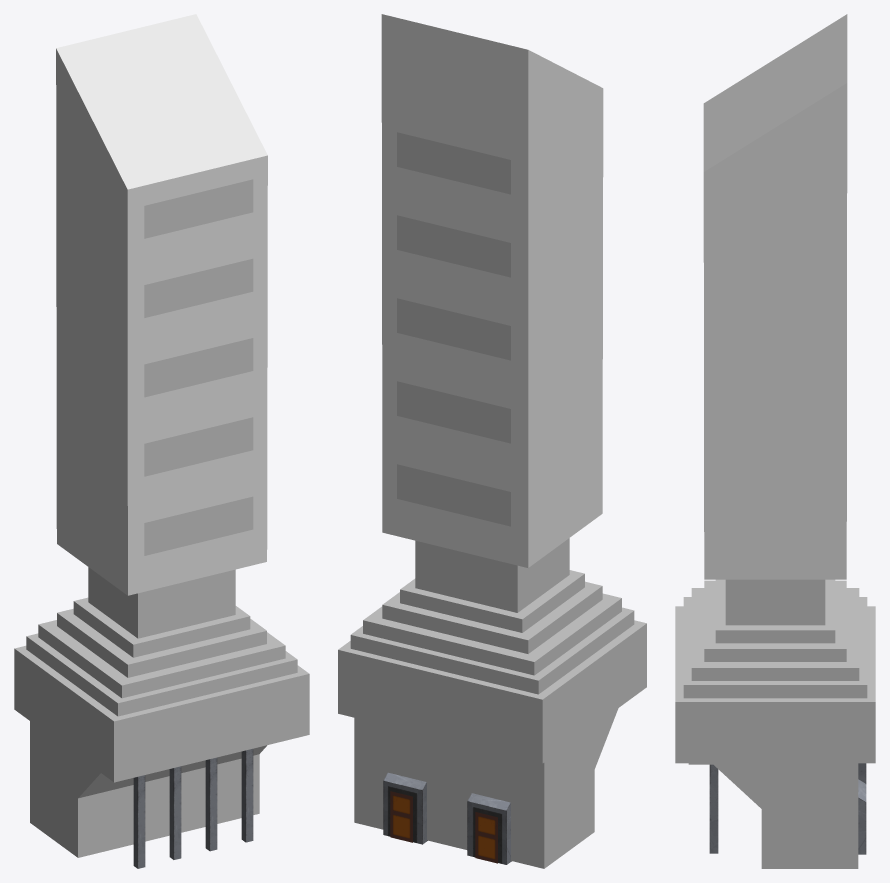
Rendered from building3_3.fbx.
The picture shows the model from 3 angles, left to right: view 1: azimuth 30°, elevation 25°; view 2: azimuth 150°, elevation 25°; view 3: azimuth 270°, elevation 25°; orthographic projection. The views are drawn at different scales.
Parts seen in each view (by area): view 1: Cube.056, Cube.062, 1.077, Cube.012, Cube.057, Cube.060, Cube.061, 1.003, Cube.059, Cube.058; view 2: Cube.056, Cube.062, Cube.012, 1.077, Cube.057, Cube.060, Cube.061, 1.015, Cube.059, Cube.058; view 3: Cube.056, Cube.062, Cube.012, Cube.060, Cube.061, Cube.057, Cube.059, Cube.058, 1.003, 1.015.
Boxes of the visible parts, left/top/right/bottom form: Cube.056: left=56, top=14, right=267, bottom=595; Cube.062: left=14, top=645, right=309, bottom=782; 1.077: left=144, top=179, right=253, bottom=555; Cube.012: left=30, top=721, right=266, bottom=857; Cube.057: left=88, top=567, right=235, bottom=638; Cube.060: left=38, top=620, right=285, bottom=698; Cube.061: left=26, top=633, right=297, bottom=716; 1.003: left=133, top=748, right=253, bottom=868; Cube.059: left=57, top=608, right=266, bottom=677; Cube.058: left=73, top=597, right=250, bottom=657; Cube.056: left=381, top=14, right=603, bottom=567; Cube.062: left=338, top=620, right=646, bottom=763; Cube.012: left=354, top=708, right=618, bottom=868; 1.077: left=397, top=132, right=510, bottom=526; Cube.057: left=415, top=538, right=569, bottom=612; Cube.060: left=363, top=593, right=621, bottom=675; Cube.061: left=350, top=607, right=634, bottom=694; 1.015: left=383, top=772, right=511, bottom=864; Cube.059: left=382, top=581, right=602, bottom=653; Cube.058: left=400, top=570, right=584, bottom=632; Cube.056: left=703, top=14, right=847, bottom=579; Cube.062: left=675, top=606, right=875, bottom=763; Cube.012: left=688, top=763, right=858, bottom=868; Cube.060: left=691, top=588, right=859, bottom=680; Cube.061: left=683, top=597, right=867, bottom=698; Cube.057: left=725, top=579, right=825, bottom=625; Cube.059: left=704, top=580, right=846, bottom=661; Cube.058: left=715, top=579, right=835, bottom=643; 1.003: left=709, top=764, right=718, bottom=853; 1.015: left=858, top=763, right=866, bottom=854.
Bounding box in the file's own units: 404 × 1529 × 357.
